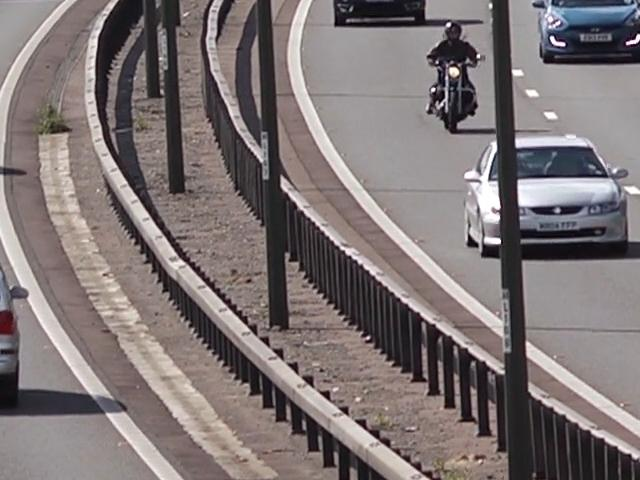car: (460, 132, 635, 258), (531, 0, 640, 65), (325, 0, 430, 26)
motorcycle: (423, 19, 486, 137)
